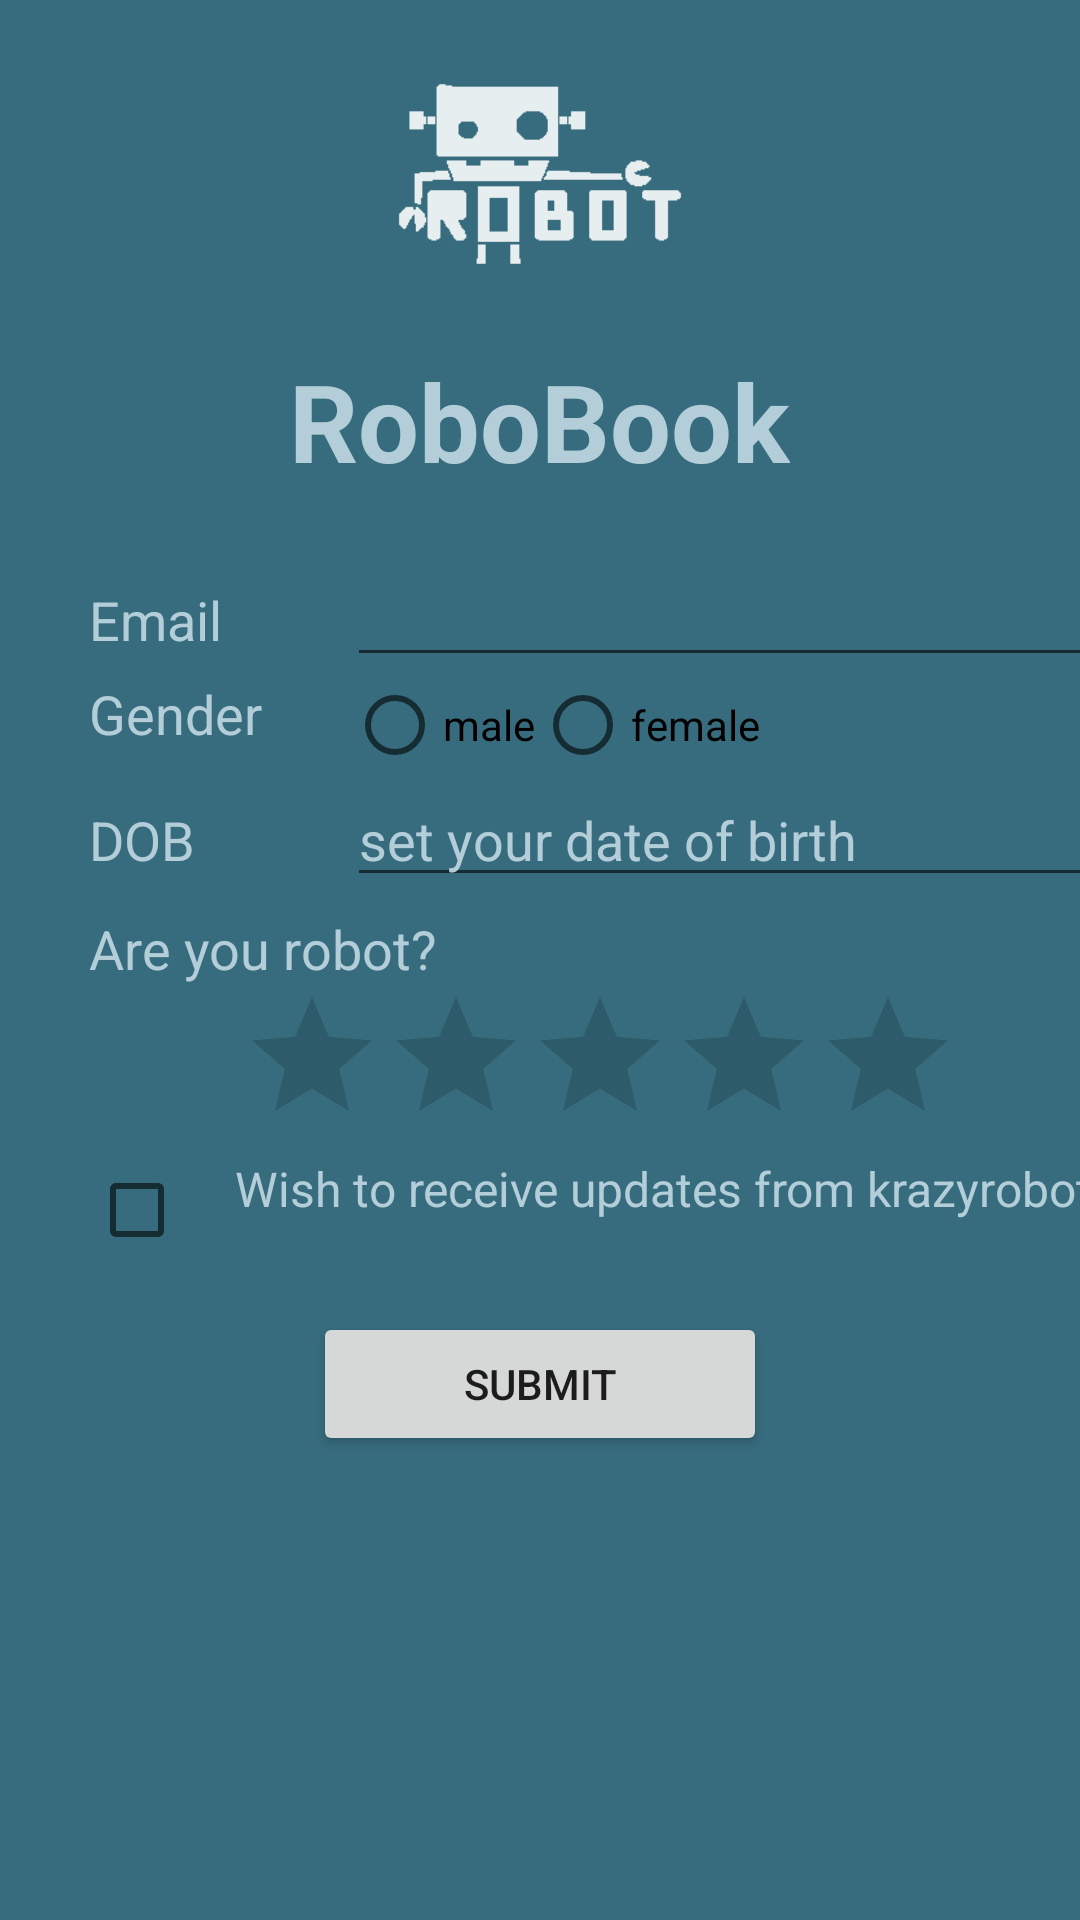

Locate icon controls on the screen. Image size 1080*1920, boxes as (x1, y1, x2, y2).
krazyrobot: (399, 84, 681, 264)
